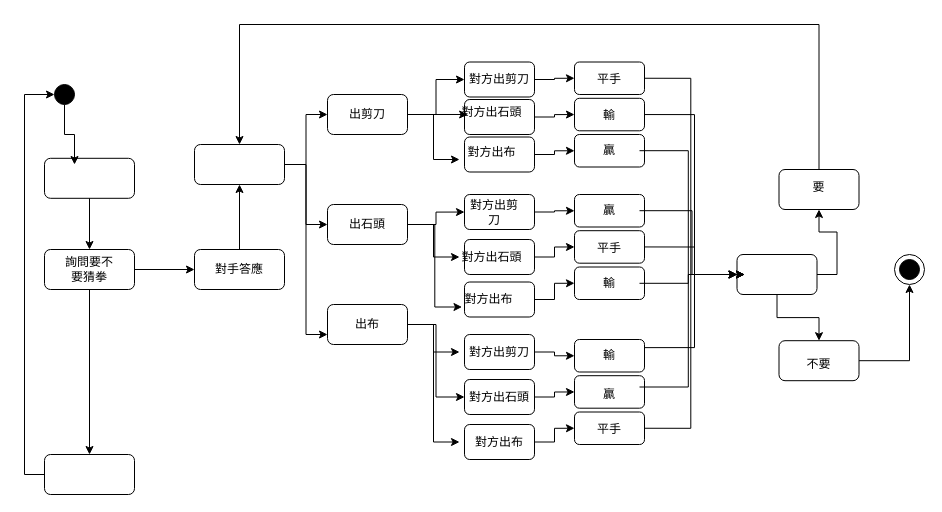
Image size: 942x512. Some labels were removed from this diagram. Each missing label, with the centre of its shape:
對手拒絕: (x=89, y=474)
找對手: (x=89, y=177)
決定要不要重來: (x=776, y=274)
準備出拳: (x=239, y=164)
